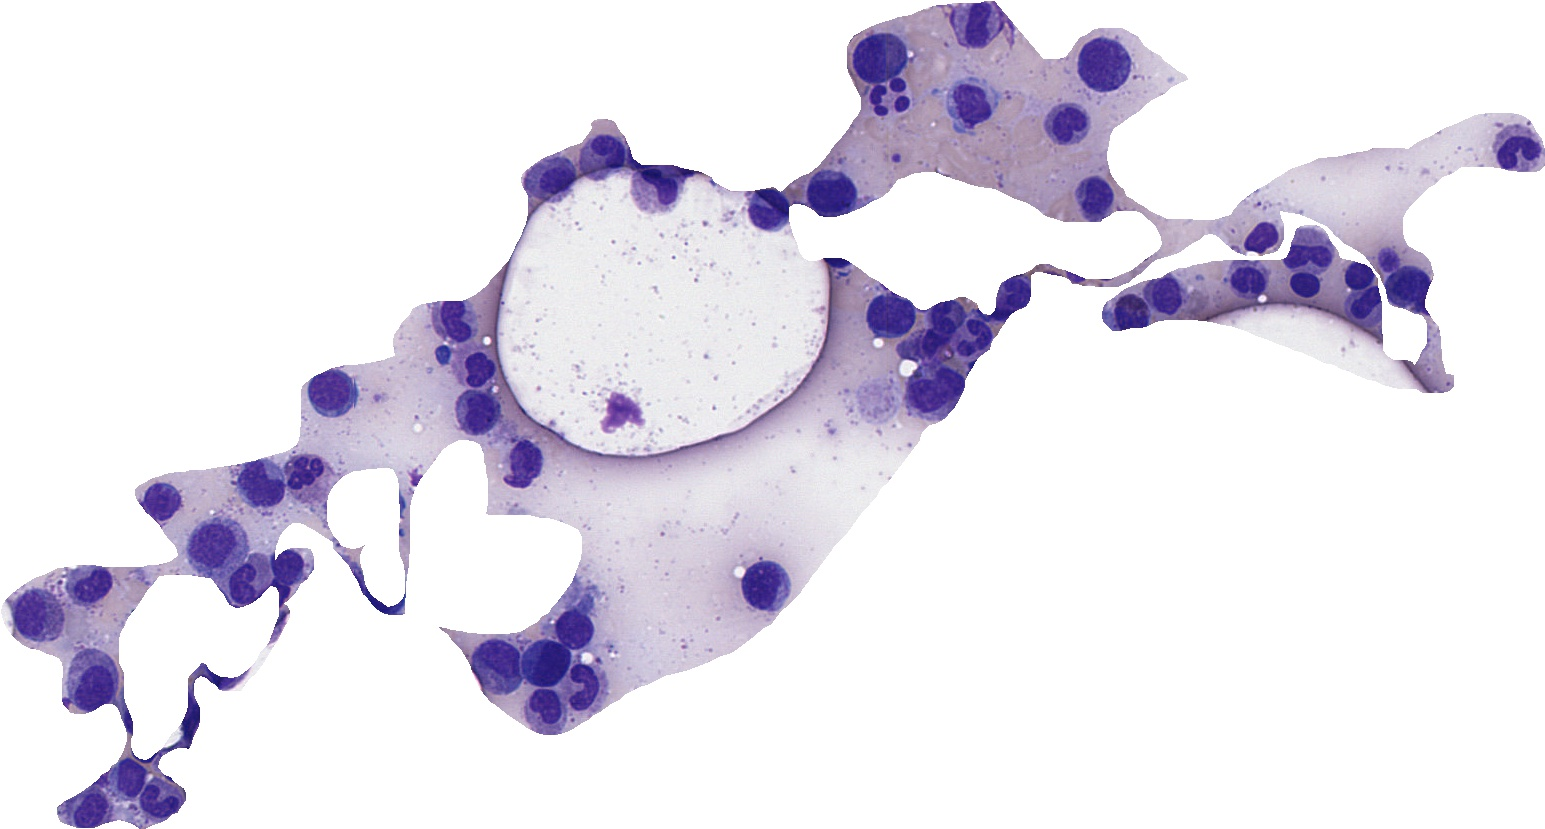objectness: (1491, 122, 1541, 172), (132, 775, 182, 825), (950, 316, 1000, 366), (986, 271, 1036, 321), (280, 450, 330, 500), (806, 167, 856, 217), (16, 591, 66, 641), (1383, 261, 1433, 311), (857, 32, 907, 82), (1137, 270, 1187, 320), (522, 152, 572, 202), (473, 641, 523, 691), (1072, 174, 1122, 224), (1108, 285, 1158, 335), (1284, 230, 1335, 280), (627, 162, 677, 212), (577, 130, 627, 180), (1044, 97, 1094, 147), (226, 556, 276, 606), (1342, 282, 1392, 332), (520, 684, 570, 734), (920, 292, 970, 342), (428, 293, 478, 343), (235, 460, 285, 510), (1079, 41, 1129, 91), (190, 522, 240, 572), (519, 639, 569, 689), (1363, 233, 1413, 283), (894, 323, 944, 373), (743, 184, 793, 234), (945, 77, 995, 127), (740, 563, 790, 613), (1280, 260, 1330, 310), (137, 474, 187, 524), (261, 543, 311, 593), (309, 367, 359, 417), (548, 605, 598, 655), (102, 755, 152, 805), (63, 659, 113, 709), (864, 70, 914, 120), (561, 665, 611, 715), (910, 363, 959, 413), (454, 388, 504, 437), (1223, 254, 1273, 303), (865, 293, 915, 343), (495, 436, 545, 486), (450, 344, 500, 394), (1332, 251, 1382, 301), (948, 0, 998, 48), (63, 786, 113, 829)
